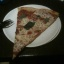pizza: (8, 8, 59, 59)
